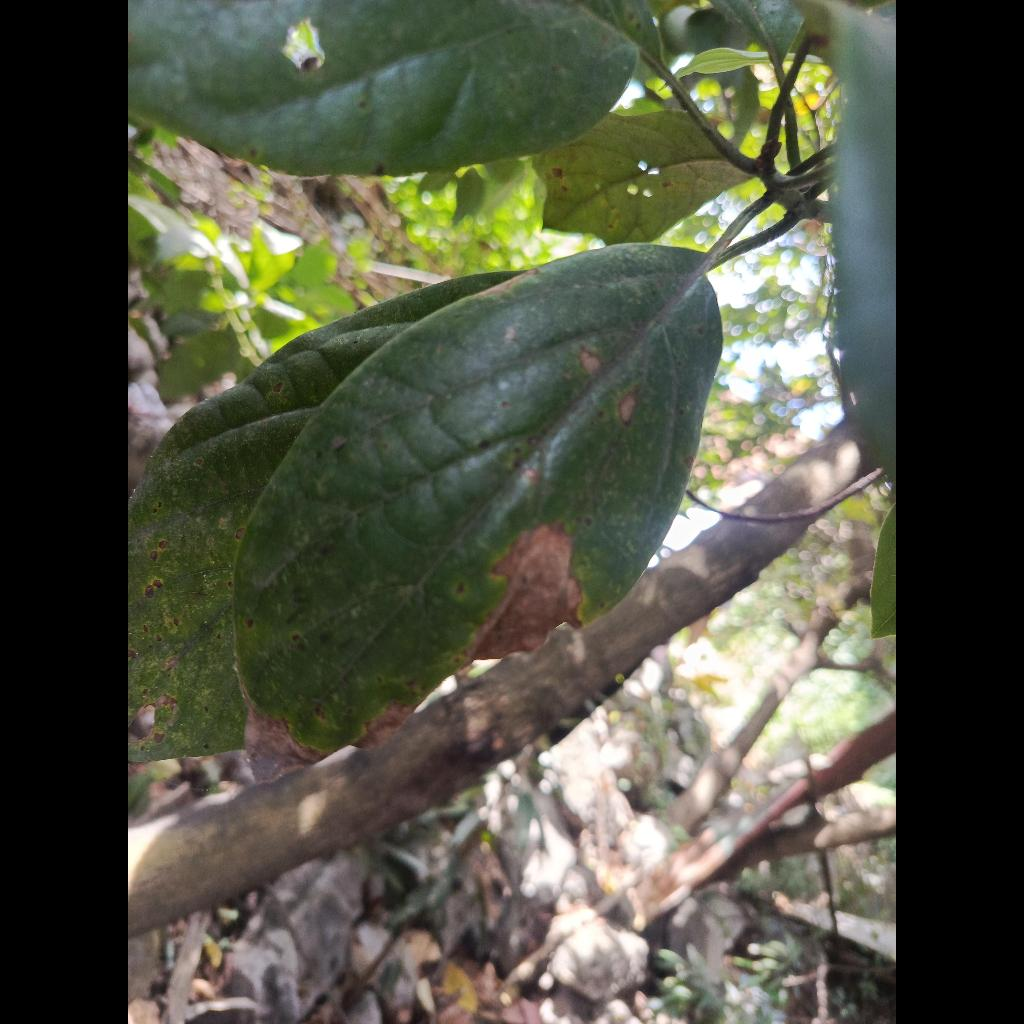Anthracnose: (234, 244, 722, 750)
